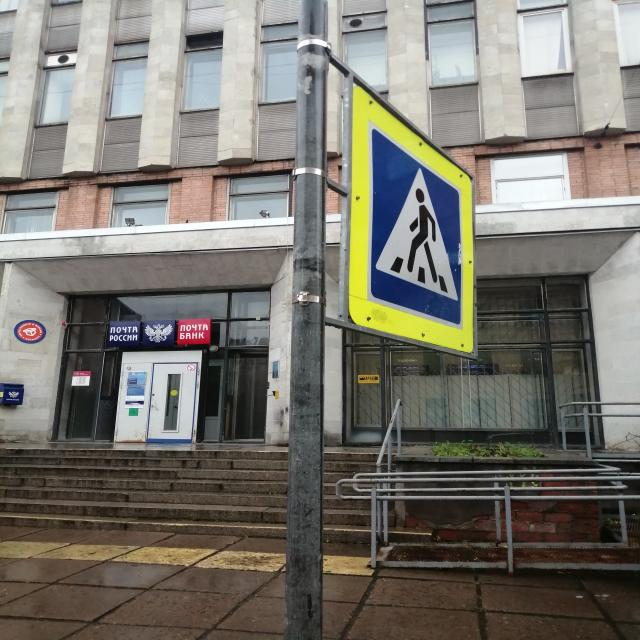road sign: (350, 78, 473, 355)
